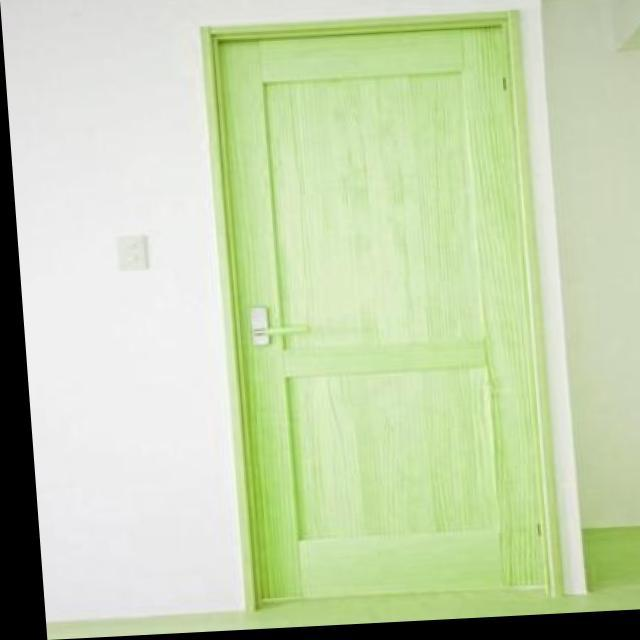door_handle: (247, 320, 304, 348)
